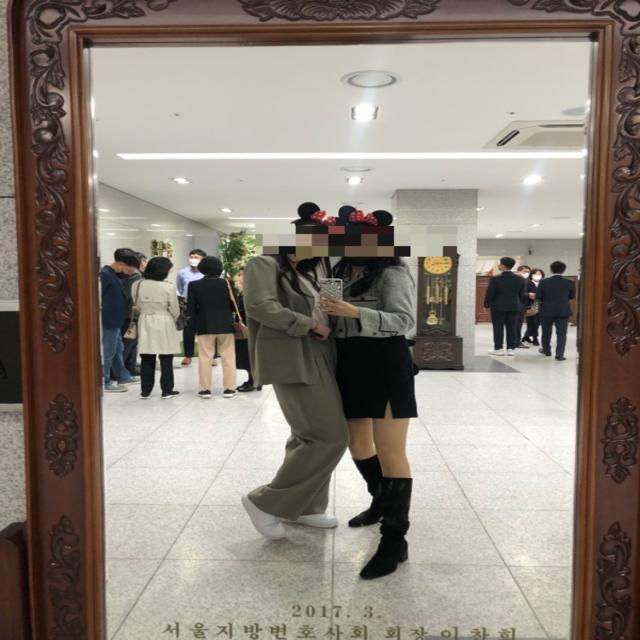blazer: (246, 255, 339, 387), (318, 258, 416, 339)
skirt: (329, 334, 420, 419)
slacks: (244, 331, 356, 522)
